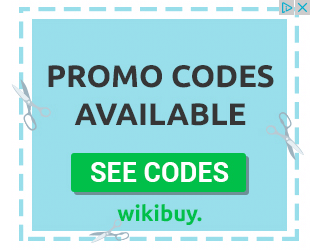fake_button: (63, 150, 257, 202)
